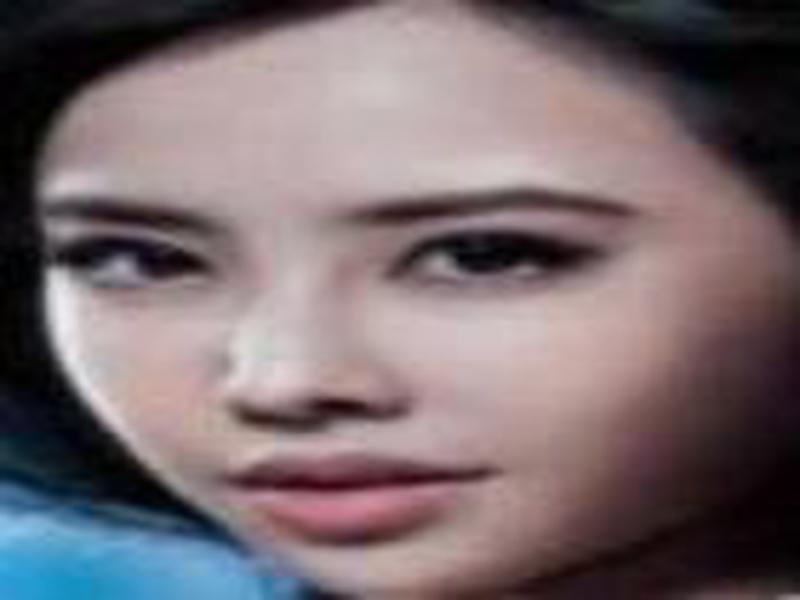without_mask: (33, 82, 759, 595)
